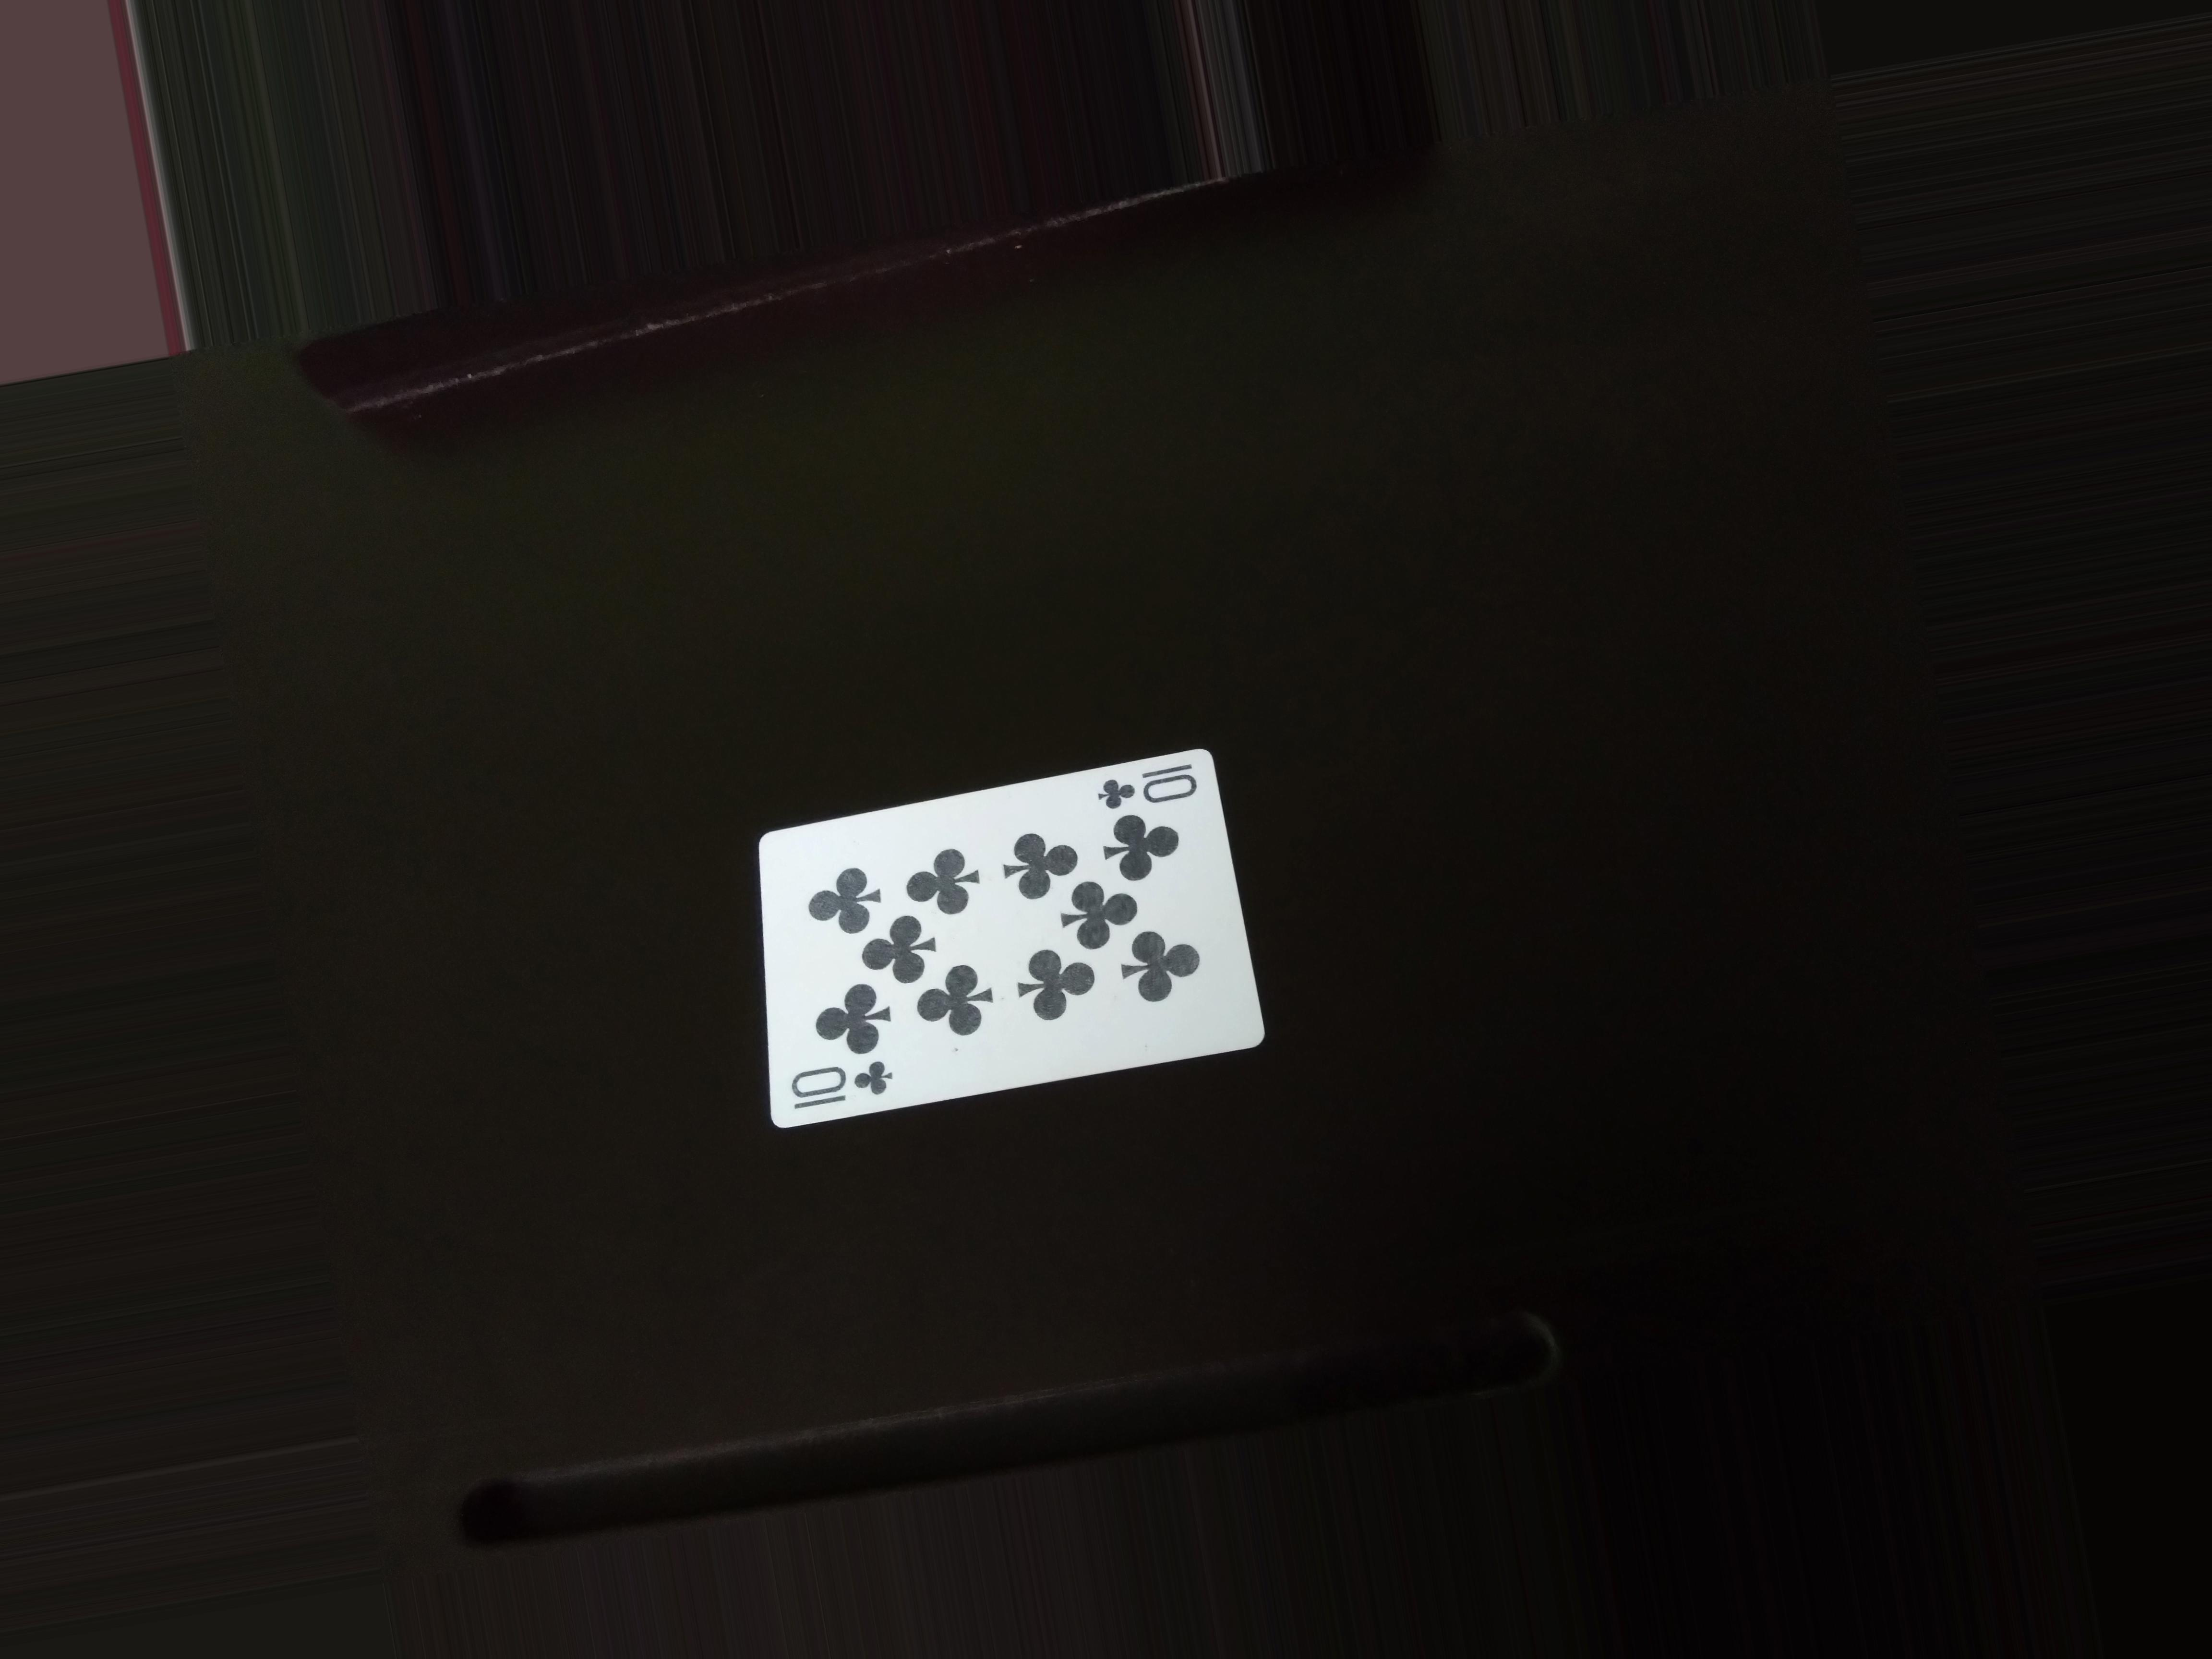10C: (1082, 763, 1202, 817)
